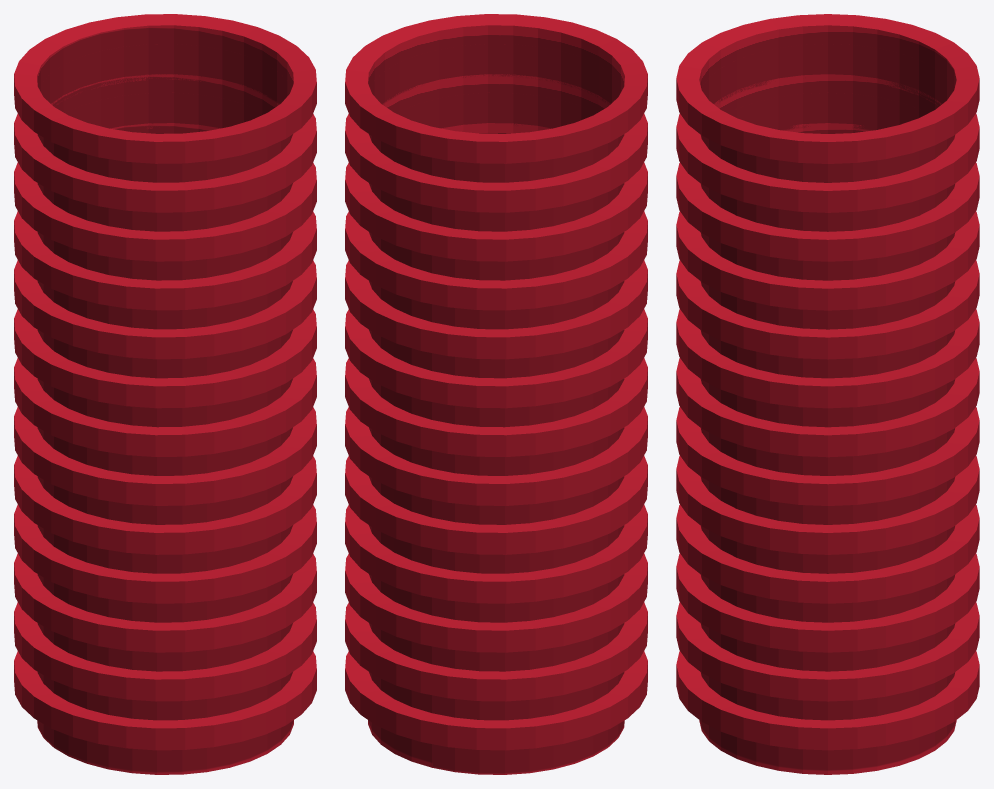
3 renders of one model, left to right at view 1: azimuth 30°, elevation 25°; view 2: azimuth 150°, elevation 25°; view 3: azimuth 270°, elevation 25°, orthographic.
Visible parts, largest first — view 1: Cylinder; view 2: Cylinder; view 3: Cylinder.
Part boxes in pixels (bbox=[...]): Cylinder: bbox=[14, 14, 316, 774]; Cylinder: bbox=[345, 14, 647, 774]; Cylinder: bbox=[676, 14, 979, 774].
Bounding box in the file's own units: 5.26 × 12.3 × 5.26.
1 material, 1 textured.
